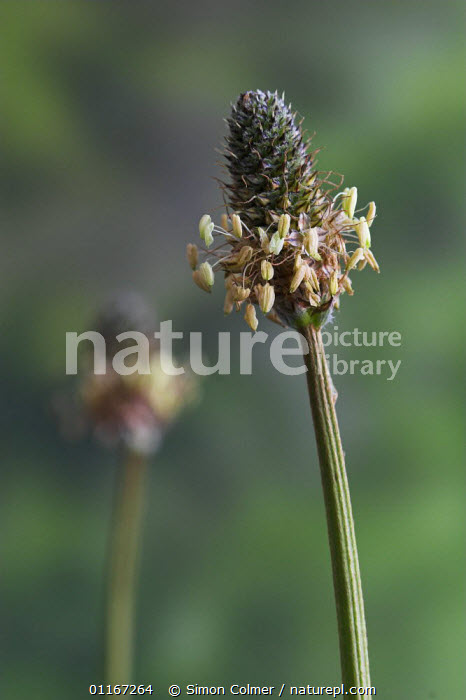buckhorn plantain: (214, 89, 386, 547)
